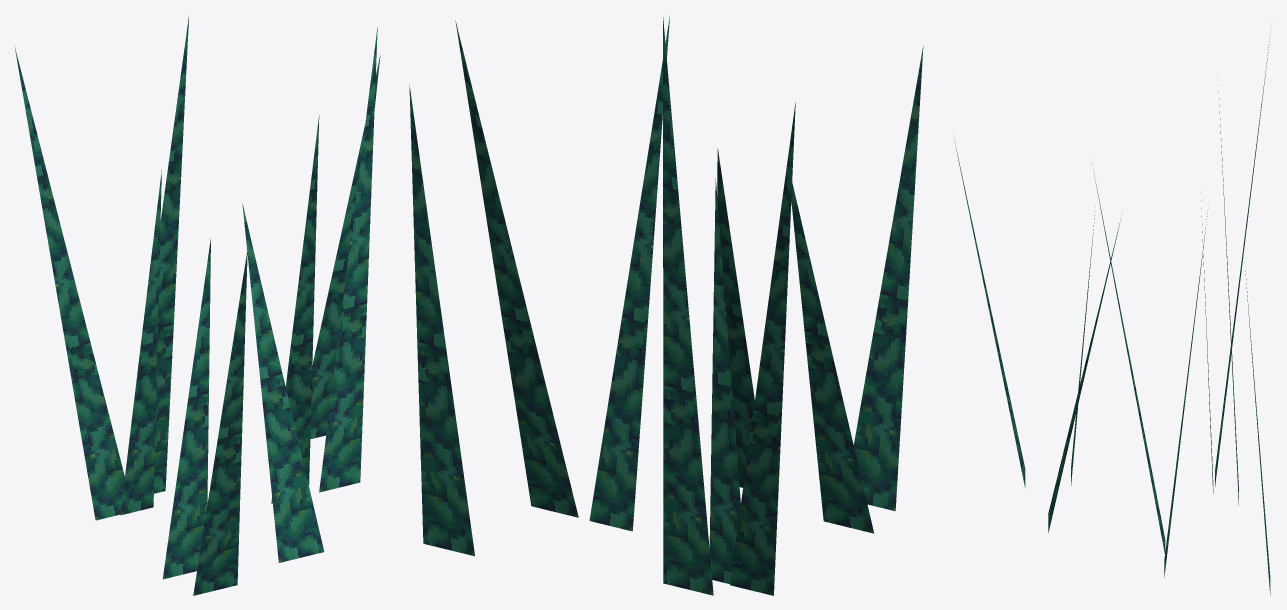
Rendered from reeds.glb.
3 renders of one model, left to right at view 1: azimuth 30°, elevation 25°; view 2: azimuth 150°, elevation 25°; view 3: azimuth 270°, elevation 25°, orthographic. The views are drawn at different scales.
Visible parts, largest first — view 1: reeds; view 2: reeds; view 3: reeds.
Part boxes in pixels (x1,y1,x2,y2): reeds: (14, 14, 380, 595); reeds: (409, 16, 923, 595); reeds: (954, 28, 1271, 594).
Bounding box in the file's own units: 0.9928 × 1.31 × 0.8436.
Materials: 1 (1 with a texture image).
